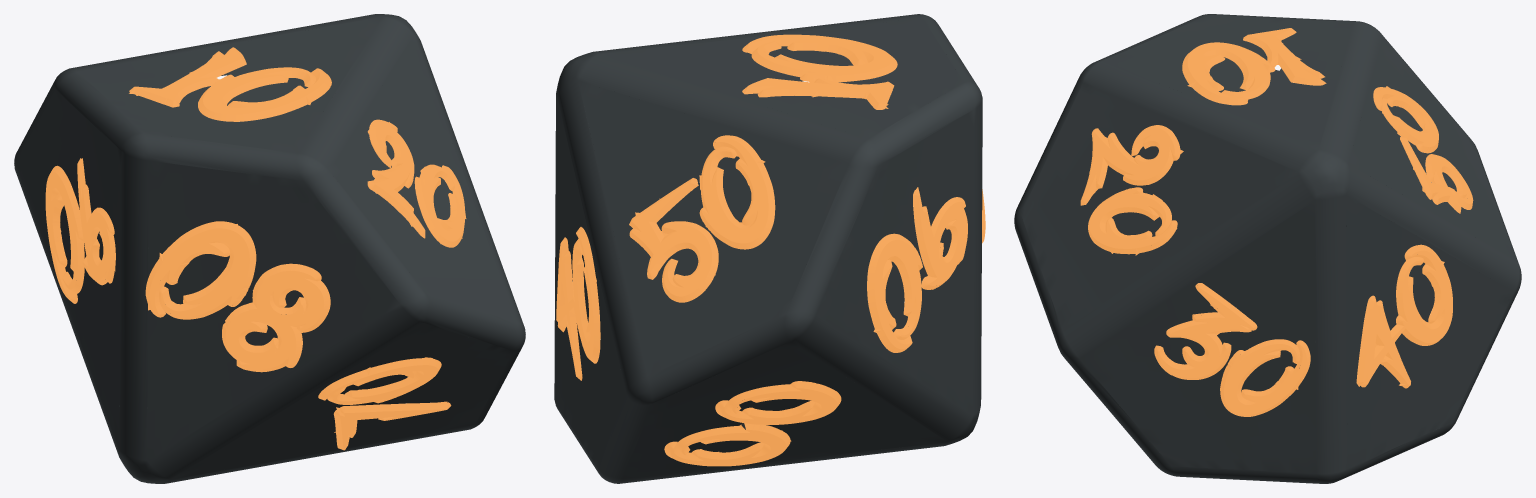
File: dice-rune.glb
The picture shows the model from 3 angles, left to right: view 1: azimuth 30°, elevation 25°; view 2: azimuth 150°, elevation 25°; view 3: azimuth 270°, elevation 25°; orthographic projection. The views are drawn at different scales.
Parts seen in each view (by area): view 1: d10_0, d10_1 (×2); view 2: d10_0, d10_1 (×2); view 3: d10_0, d10_1 (×2).
Part boxes in pixels (x1,y1,x2,y2): d10_0: (14,14,525,483); d10_1 (×2): (45,47,466,450); d10_0: (554,14,982,483); d10_1 (×2): (556,34,985,466); d10_0: (1014,14,1521,483); d10_1 (×2): (1080,28,1473,416).
Bounding box in the file's own units: 2.22 × 2.17 × 3.
